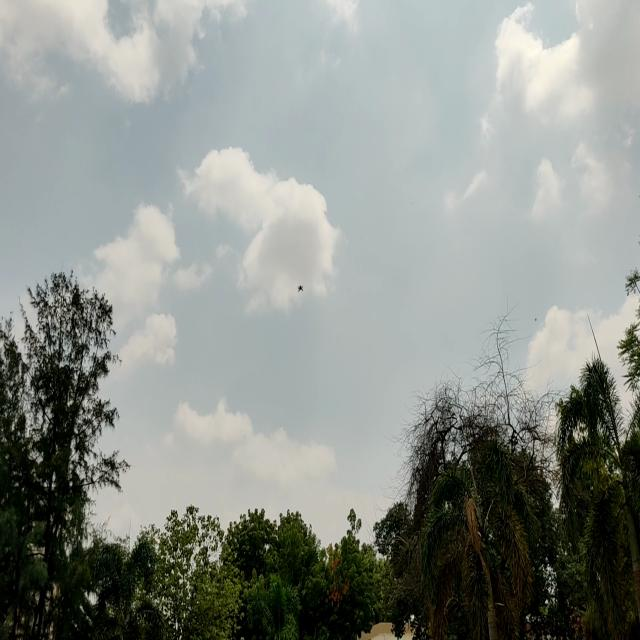drone: (296, 278, 306, 298)
